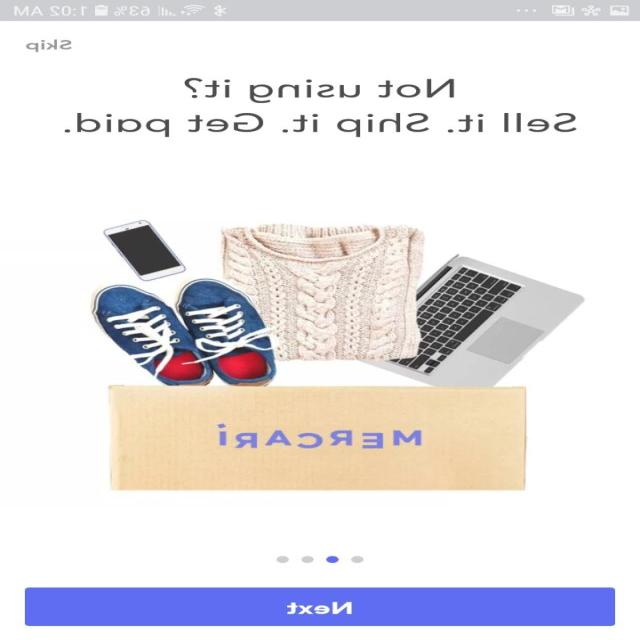Image: (89, 219, 586, 491)
Text: (65, 77, 578, 137), (26, 39, 74, 52)
TextButton: (25, 587, 616, 626)
